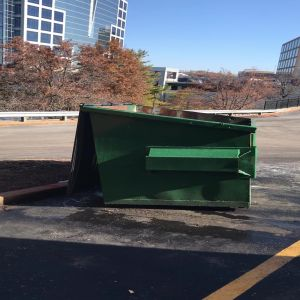Dumpster: (68, 102, 260, 211)
